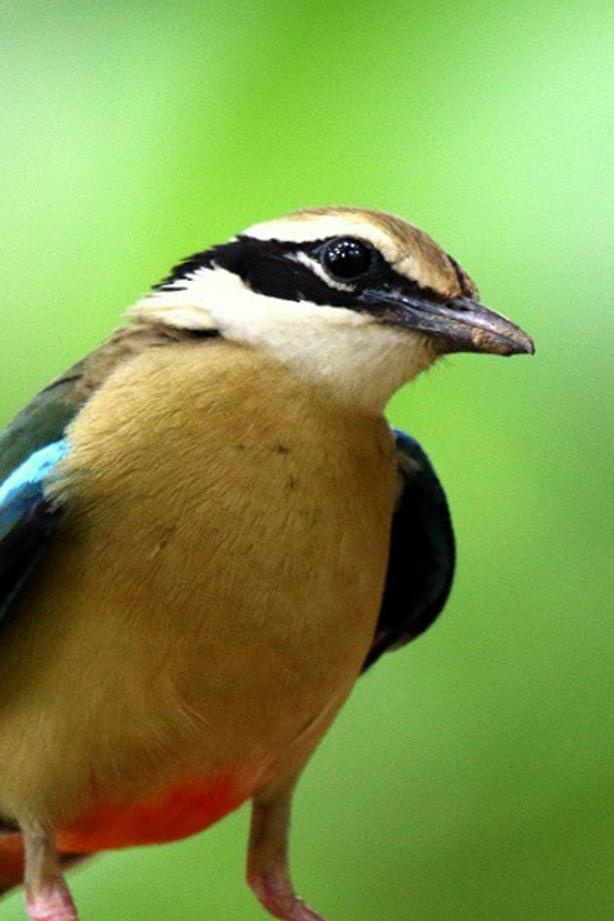pitta: (1, 183, 557, 903)
